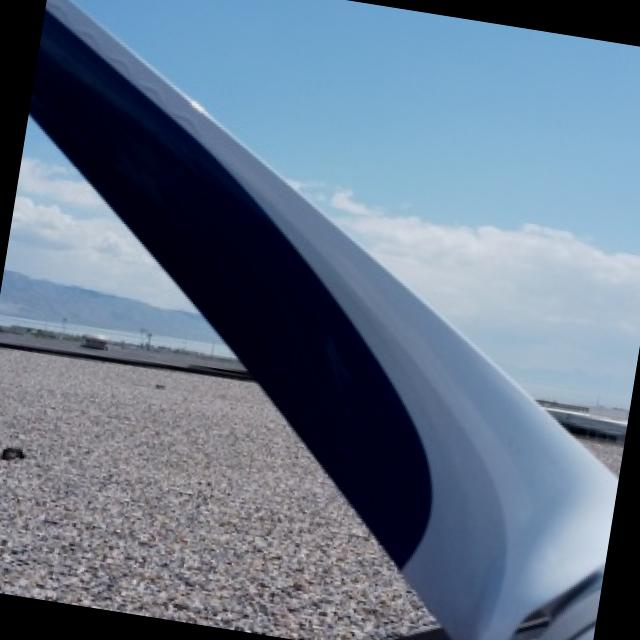healthy: (31, 0, 640, 640)
